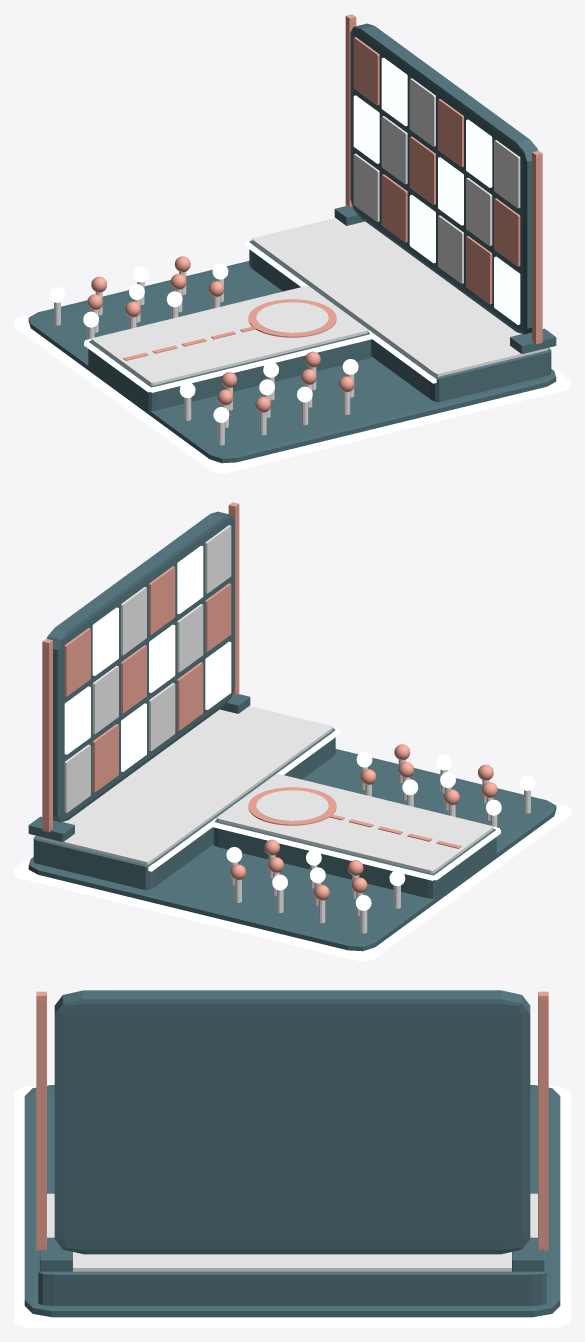
The model's file is SpotlightStage.fbx.
3 renders of one model, top to bottom at view 1: azimuth 30°, elevation 25°; view 2: azimuth 150°, elevation 25°; view 3: azimuth 270°, elevation 25°, orthographic. The views are drawn at different scales.
Visible parts, largest first — view 1: SpotlightStage_17323B, SpotlightStage_FFFFFF, SpotlightStage_2EC4B6_Neon, SpotlightStage_FF6F59_Neon, SpotlightStage_FFFFFF_Neon, SpotlightStage_FF6F59; view 2: SpotlightStage_17323B, SpotlightStage_FFFFFF, SpotlightStage_2EC4B6_Neon, SpotlightStage_FF6F59_Neon, SpotlightStage_FFFFFF_Neon, SpotlightStage_FF6F59; view 3: SpotlightStage_17323B, SpotlightStage_2EC4B6_Neon, SpotlightStage_FFFFFF, SpotlightStage_FF6F59_Neon.
Boxes of the visible parts, x1,y1,x2,y2 form: SpotlightStage_17323B: (28, 23, 556, 463); SpotlightStage_FFFFFF: (54, 218, 548, 445); SpotlightStage_2EC4B6_Neon: (14, 57, 570, 473); SpotlightStage_FF6F59_Neon: (87, 14, 542, 412); SpotlightStage_FFFFFF_Neon: (353, 78, 520, 283); SpotlightStage_FF6F59: (248, 299, 336, 337); SpotlightStage_17323B: (28, 511, 556, 951); SpotlightStage_FFFFFF: (36, 706, 530, 933); SpotlightStage_2EC4B6_Neon: (14, 545, 570, 961); SpotlightStage_FF6F59_Neon: (42, 502, 497, 900); SpotlightStage_FFFFFF_Neon: (64, 525, 231, 812); SpotlightStage_FF6F59: (248, 787, 336, 825); SpotlightStage_17323B: (24, 990, 560, 1317); SpotlightStage_2EC4B6_Neon: (14, 1086, 570, 1327); SpotlightStage_FFFFFF: (47, 1193, 537, 1271); SpotlightStage_FF6F59_Neon: (36, 991, 548, 1250).
Size of the model in its own units: 515 by 325 by 515.
